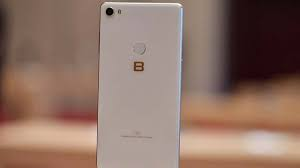bphone: (96, 2, 182, 168)
